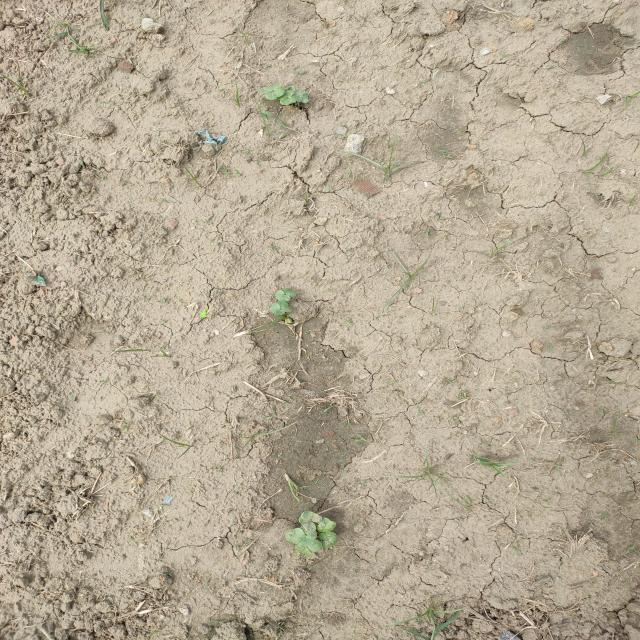seedling: (293, 528, 314, 545), (316, 517, 336, 533), (319, 532, 339, 548), (299, 516, 316, 532), (301, 510, 323, 522), (294, 544, 312, 558), (265, 88, 285, 100), (259, 83, 282, 93), (300, 526, 317, 539), (293, 90, 309, 103), (269, 303, 285, 316), (305, 540, 322, 552), (275, 290, 291, 302), (277, 300, 292, 312), (277, 90, 295, 99), (280, 96, 296, 105), (281, 288, 296, 296), (286, 534, 297, 544), (285, 85, 297, 92), (285, 529, 294, 536)
